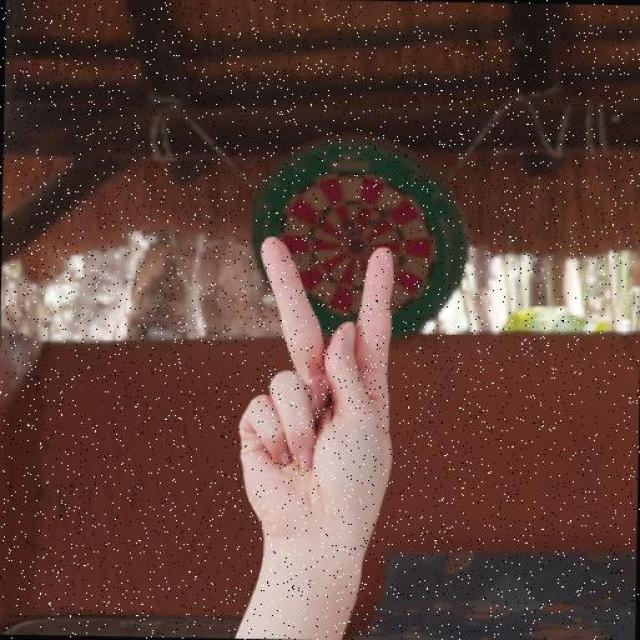K: (233, 232, 398, 550)
